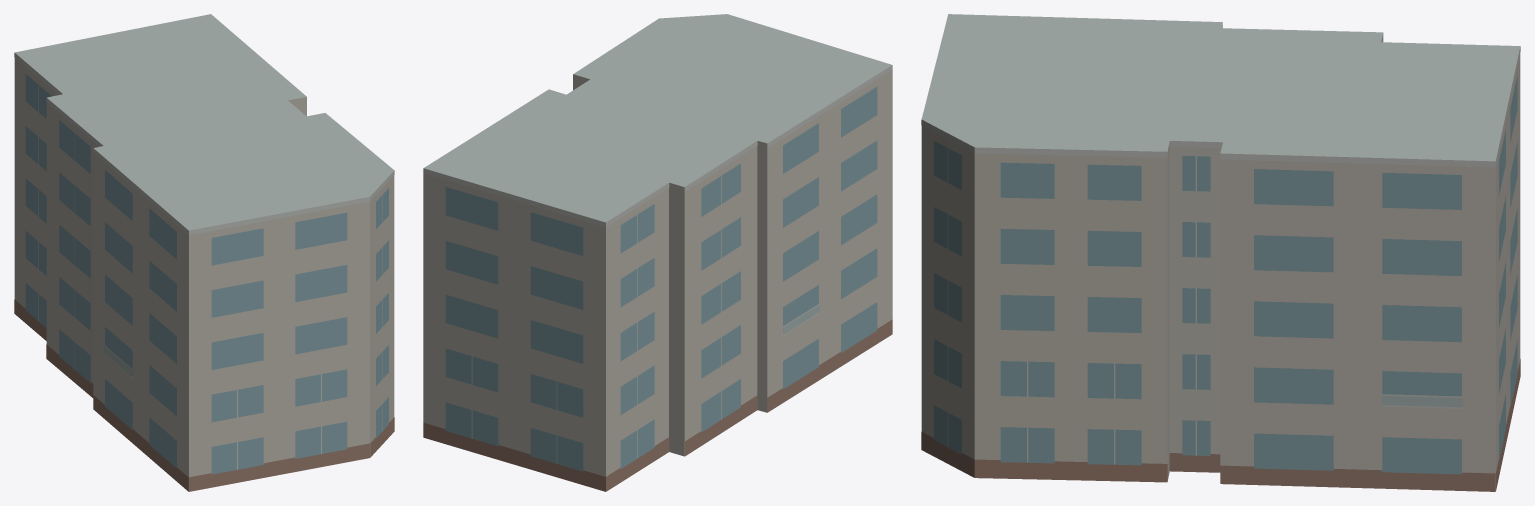
Rendered from survey-upis-32666622.glb.
The picture shows the model from 3 angles, left to right: view 1: azimuth 30°, elevation 25°; view 2: azimuth 150°, elevation 25°; view 3: azimuth 270°, elevation 25°; orthographic projection. The views are drawn at different scales.
Visible parts, largest first — view 1: survey-upis-32666622.tmp; view 2: survey-upis-32666622.tmp; view 3: survey-upis-32666622.tmp.
Part boxes in pixels (x1,y1,x2,y2): survey-upis-32666622.tmp: [14, 14, 394, 491]; survey-upis-32666622.tmp: [423, 14, 892, 491]; survey-upis-32666622.tmp: [921, 14, 1520, 491].
Bounding box in the file's own units: 12.91 × 13.5 × 22.18.
